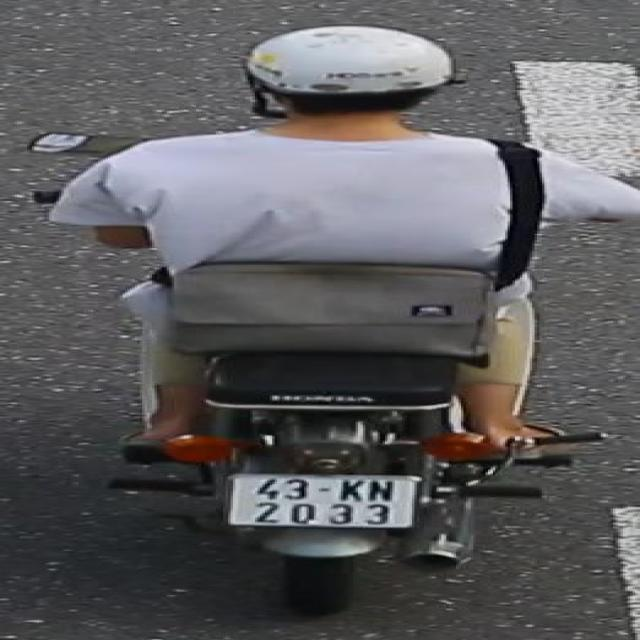LP: (221, 468, 429, 534)
helmet: (239, 19, 460, 132)
